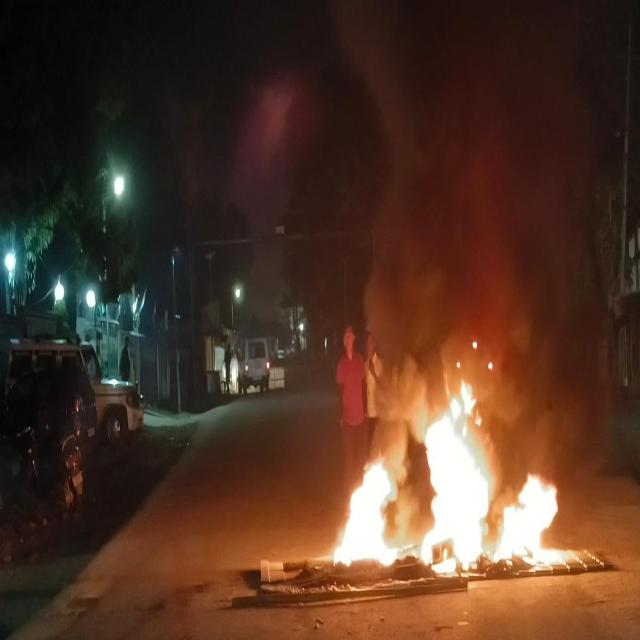fire: (421, 417, 488, 574), (332, 466, 396, 565), (493, 473, 559, 562)
